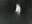person: (16, 4, 22, 16)
